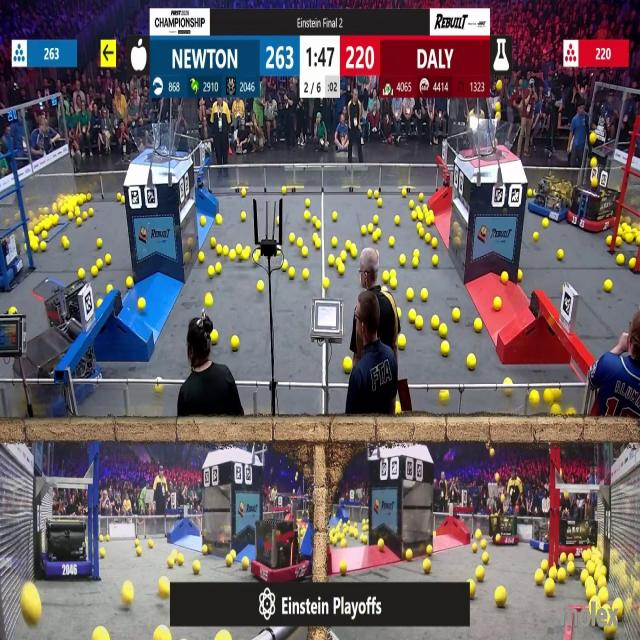ball_airborne: (591, 177, 598, 188), (590, 133, 596, 145), (591, 158, 597, 168), (496, 80, 502, 90), (495, 103, 500, 112), (495, 472, 500, 481), (490, 449, 495, 457), (500, 494, 504, 502), (496, 112, 500, 120)
ball_ground: (121, 584, 132, 608), (495, 587, 506, 608), (160, 580, 172, 598), (604, 625, 616, 640), (95, 628, 108, 640), (154, 628, 167, 640), (529, 390, 539, 405), (344, 356, 353, 372), (544, 581, 553, 597), (551, 388, 562, 401), (534, 570, 544, 584), (598, 590, 608, 604), (240, 247, 250, 260), (396, 336, 404, 351), (467, 354, 475, 369), (477, 566, 485, 581), (442, 342, 450, 356), (232, 337, 240, 351), (211, 331, 219, 345), (138, 296, 146, 310), (493, 296, 501, 310), (340, 560, 348, 574), (394, 403, 402, 417), (468, 583, 475, 599), (587, 586, 595, 600), (552, 406, 562, 417), (441, 390, 450, 402), (473, 319, 481, 332), (416, 316, 424, 329), (205, 293, 213, 306), (629, 257, 637, 270), (558, 569, 566, 582), (423, 560, 430, 574), (626, 233, 634, 245), (566, 563, 574, 575), (543, 389, 551, 401), (192, 561, 199, 574), (453, 309, 460, 322), (441, 324, 448, 337), (421, 288, 428, 301), (618, 254, 626, 265), (406, 551, 414, 562), (62, 238, 70, 249), (243, 558, 250, 570), (431, 316, 438, 328), (604, 280, 611, 292), (31, 240, 38, 252), (579, 571, 586, 583), (360, 534, 368, 544), (560, 554, 568, 564), (546, 567, 554, 577), (339, 265, 346, 276), (288, 269, 295, 280), (389, 278, 396, 289), (425, 214, 432, 225), (378, 538, 385, 549), (398, 254, 404, 266), (408, 288, 414, 300), (501, 273, 507, 285), (483, 552, 489, 564), (127, 278, 134, 288), (303, 270, 310, 280), (225, 556, 232, 566), (230, 250, 237, 260), (540, 560, 547, 570), (154, 384, 161, 394), (323, 278, 329, 289), (257, 281, 263, 292), (168, 557, 174, 568), (413, 257, 419, 268), (558, 249, 564, 260), (351, 247, 357, 258), (208, 267, 214, 278), (410, 311, 416, 322), (567, 410, 575, 418), (388, 238, 395, 247), (78, 269, 84, 279), (203, 543, 209, 553), (105, 254, 111, 264), (331, 238, 337, 248), (215, 265, 221, 275), (200, 252, 206, 262), (40, 242, 46, 252), (93, 268, 99, 278), (100, 549, 106, 559), (617, 238, 623, 248), (303, 248, 309, 258), (216, 245, 222, 255), (383, 272, 389, 282), (252, 252, 258, 262), (316, 220, 322, 230), (346, 240, 352, 250), (516, 272, 522, 282), (178, 556, 184, 566), (68, 211, 74, 221), (74, 207, 80, 217), (82, 210, 88, 220), (504, 378, 511, 386), (337, 255, 344, 263), (504, 388, 511, 396), (328, 255, 333, 266), (315, 240, 321, 249), (216, 214, 222, 223), (331, 212, 337, 221), (474, 530, 480, 539), (532, 233, 538, 242), (419, 230, 425, 239), (305, 212, 311, 221), (410, 201, 416, 210), (41, 232, 47, 241), (418, 212, 424, 221), (342, 538, 348, 547), (61, 206, 67, 215), (432, 256, 437, 266), (427, 544, 432, 554), (289, 234, 294, 244), (201, 216, 206, 226), (431, 239, 436, 249), (606, 236, 611, 246), (137, 545, 142, 555), (98, 258, 103, 268), (394, 216, 400, 224), (419, 192, 425, 200), (390, 270, 396, 278), (296, 239, 302, 247), (482, 540, 488, 548), (413, 212, 419, 220), (414, 249, 420, 257), (396, 310, 402, 318), (148, 540, 154, 548), (567, 554, 573, 562), (374, 190, 380, 198), (542, 218, 547, 227), (361, 225, 366, 234), (283, 263, 288, 272), (211, 238, 216, 247), (371, 234, 376, 243), (76, 217, 81, 226), (372, 216, 377, 225), (425, 235, 430, 244), (313, 233, 319, 240), (362, 525, 368, 532), (306, 200, 311, 208), (367, 224, 372, 232), (378, 200, 383, 208), (401, 188, 406, 196), (90, 208, 95, 216), (116, 192, 121, 200), (184, 252, 188, 262), (88, 192, 93, 200), (312, 215, 317, 223), (618, 230, 623, 238), (98, 239, 102, 248), (472, 542, 476, 551), (9, 308, 15, 314), (276, 250, 282, 256), (242, 212, 246, 221), (636, 237, 640, 246), (417, 221, 422, 228), (242, 188, 246, 196), (367, 190, 371, 198), (136, 538, 140, 546), (282, 186, 286, 194), (107, 284, 111, 292), (98, 298, 102, 306), (120, 198, 124, 205), (528, 189, 532, 196), (100, 535, 104, 541), (106, 535, 110, 541), (432, 531, 435, 536)
goal: (463, 122, 521, 160), (131, 128, 189, 160)
robot_blue: (42, 517, 91, 578), (532, 170, 574, 221), (529, 516, 550, 550)
robot_red: (253, 513, 310, 582), (570, 182, 619, 234), (558, 518, 598, 557), (490, 516, 522, 544)
